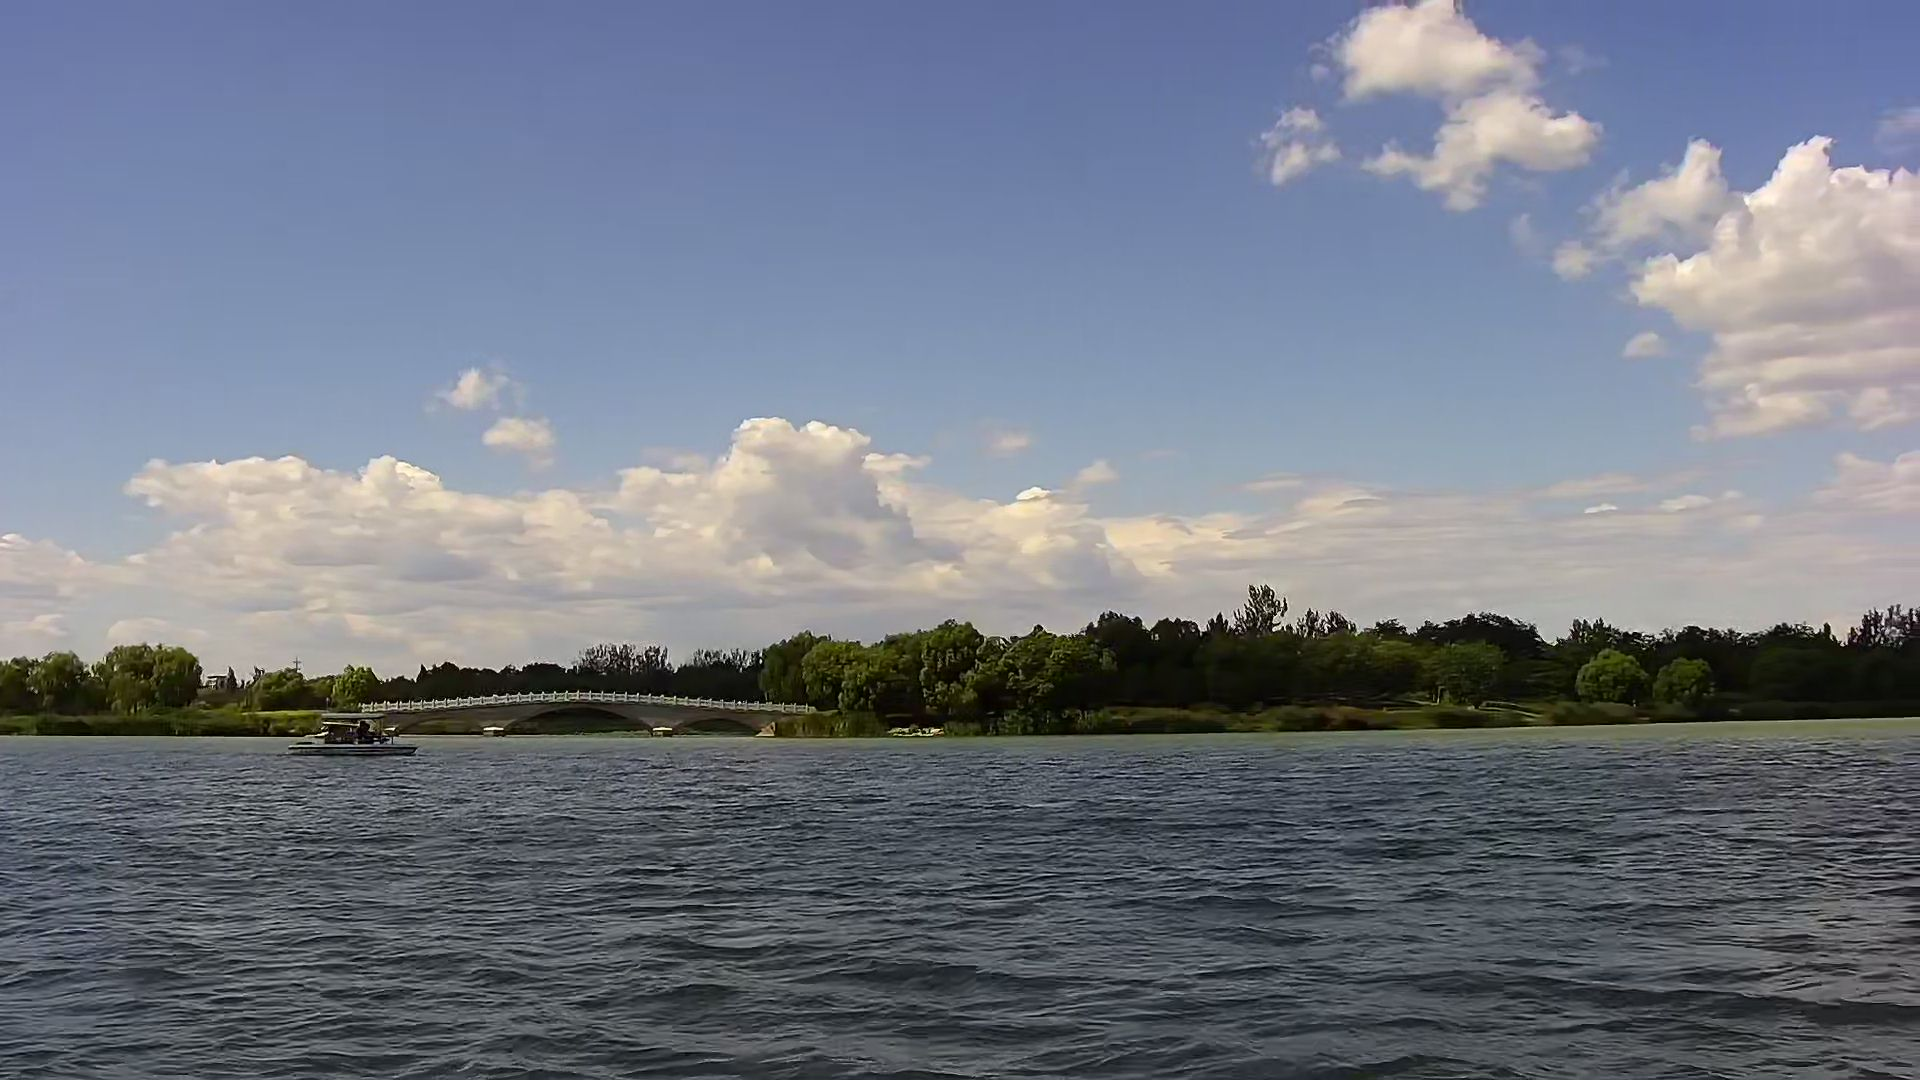boat: (286, 704, 417, 761)
bridge: (410, 691, 819, 735)
